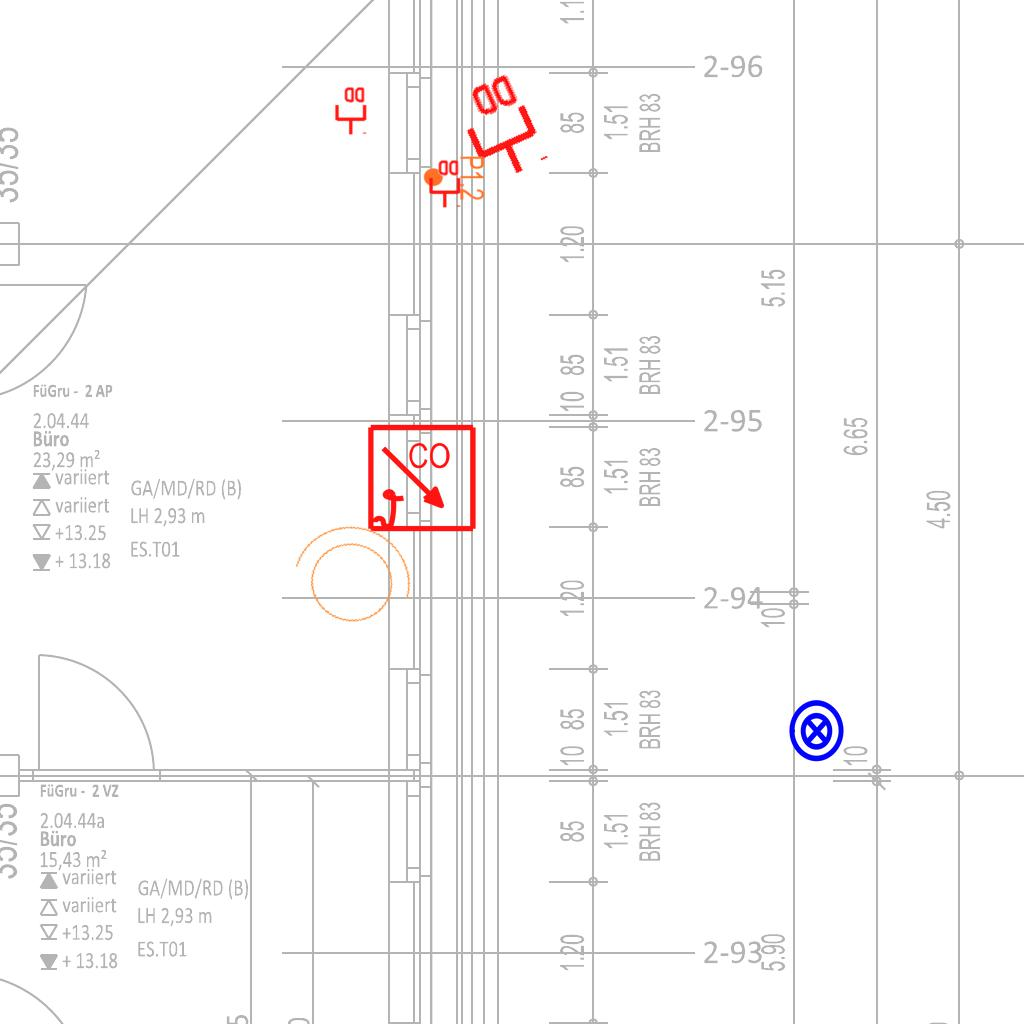Datenanschluss_zweifach: (446, 67, 551, 190), (333, 85, 367, 136), (427, 158, 461, 209)
Downlight_LED_Einbauleuchten_Flur: (422, 155, 486, 201)
ROA_Rauchmelder_optisch_mit_Signalgeber_(Sockelsirene): (366, 423, 479, 536)
Scheinwerfer_fuer_Alarmbeleuchtung: (271, 504, 429, 650)
Taster_beleuchtet: (784, 698, 850, 764)
